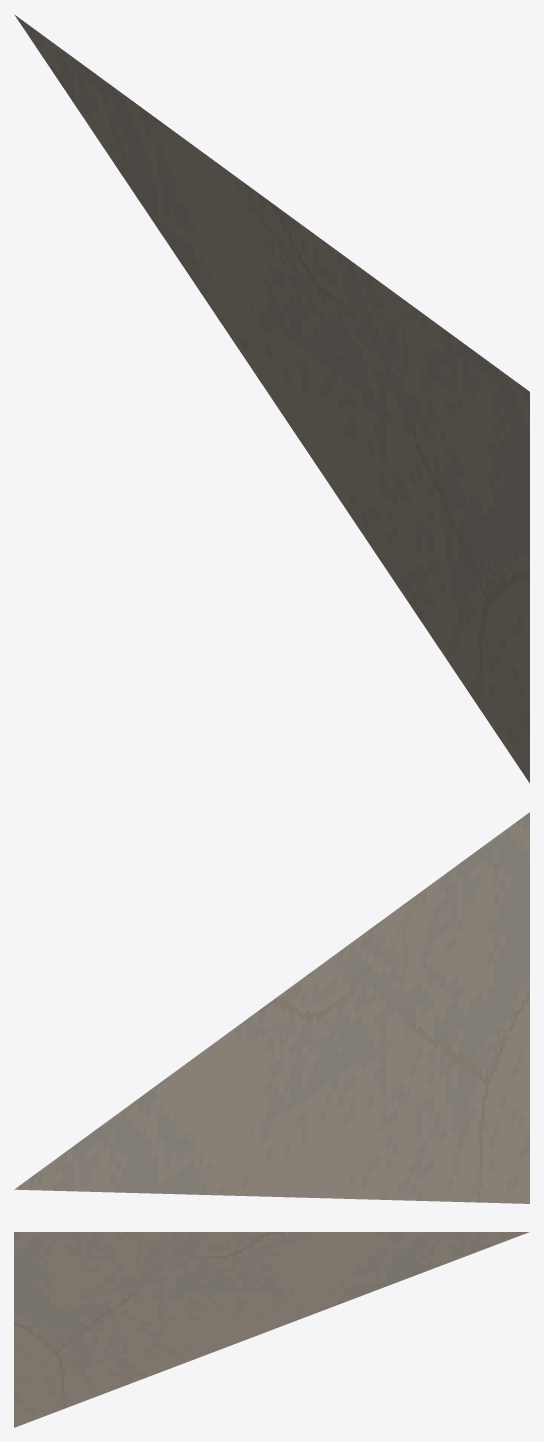
The model's file is kd_stage_135c43_4_158_bounded_piece_2.glb.
3 renders of one model, top to bottom at view 1: azimuth 30°, elevation 25°; view 2: azimuth 150°, elevation 25°; view 3: azimuth 270°, elevation 25°, orthographic. The views are drawn at different scales.
Parts seen in each view (by area): view 1: kd_stage_135c43_4_158_bounded_piece_2; view 2: kd_stage_135c43_4_158_bounded_piece_2; view 3: kd_stage_135c43_4_158_bounded_piece_2.
Part boxes in pixels (<box>): kd_stage_135c43_4_158_bounded_piece_2: <box>14,14,529,783</box>; kd_stage_135c43_4_158_bounded_piece_2: <box>14,812,529,1203</box>; kd_stage_135c43_4_158_bounded_piece_2: <box>14,1232,529,1427</box>.
Size of the model in its own units: 0 by 0.228 by 0.5442.
Materials: 1 (1 with a texture image).
